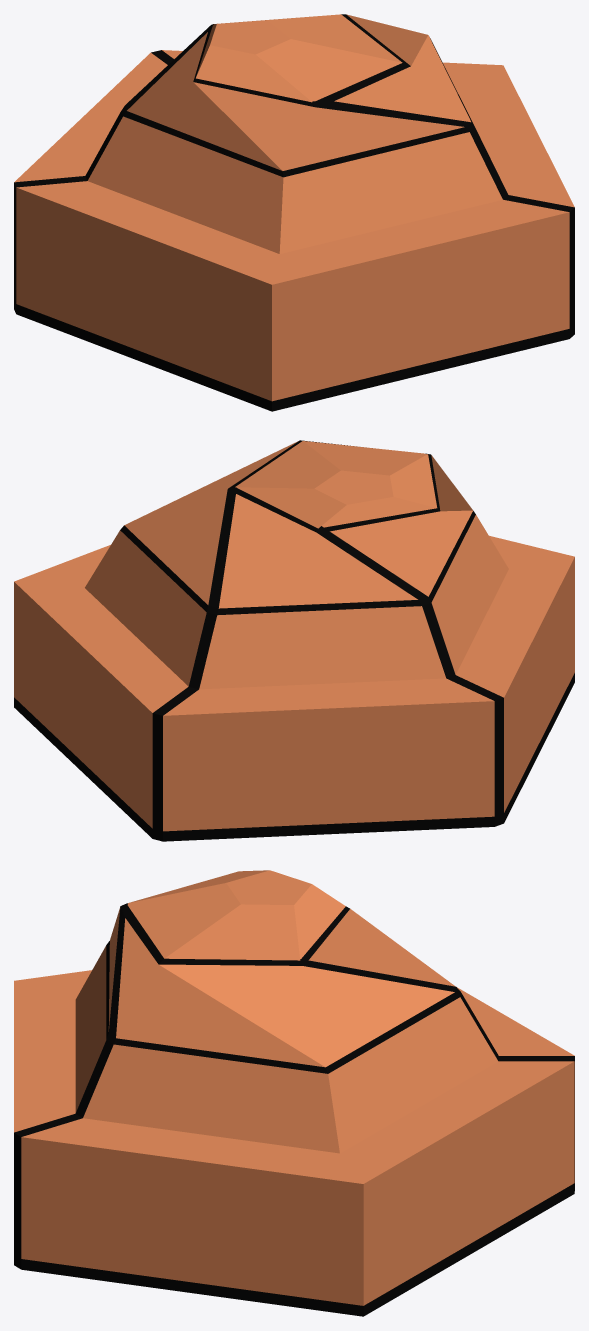
Rendered from PaperRock03 1.fbx.
The picture shows the model from 3 angles, top to bottom: view 1: azimuth 30°, elevation 25°; view 2: azimuth 150°, elevation 25°; view 3: azimuth 270°, elevation 25°; orthographic projection. The views are drawn at different scales.
Parts seen in each view (by area): view 1: Circle.022; view 2: Circle.022; view 3: Circle.022.
Part boxes in pixels (x1,y1,x2,y2): Circle.022: (14, 14, 574, 411); Circle.022: (14, 440, 574, 841); Circle.022: (14, 870, 574, 1316).
Size of the model in its own units: 859 by 438 by 814.
